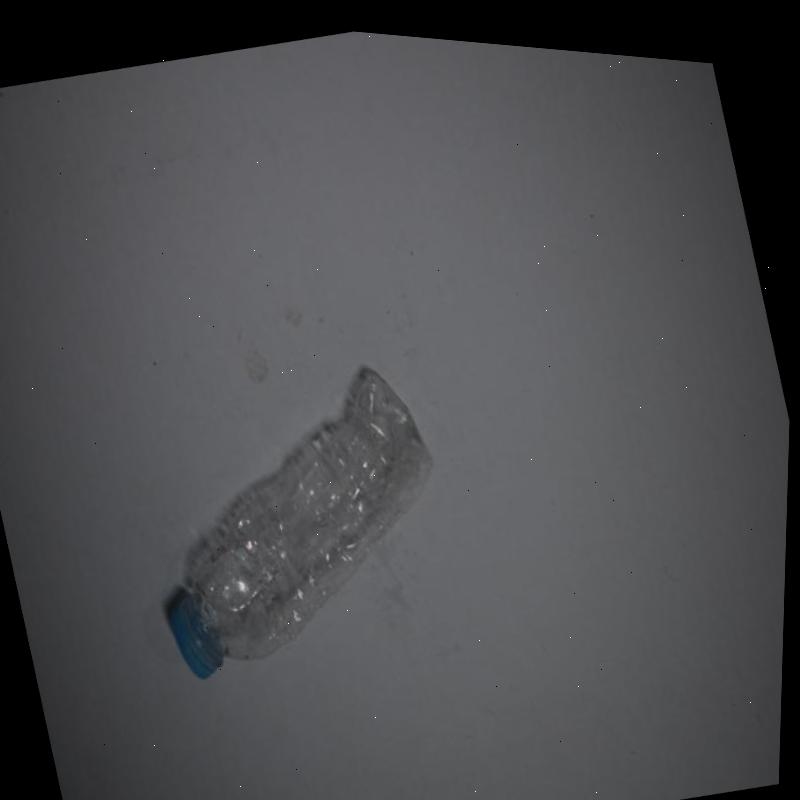botella: (118, 336, 478, 694)
